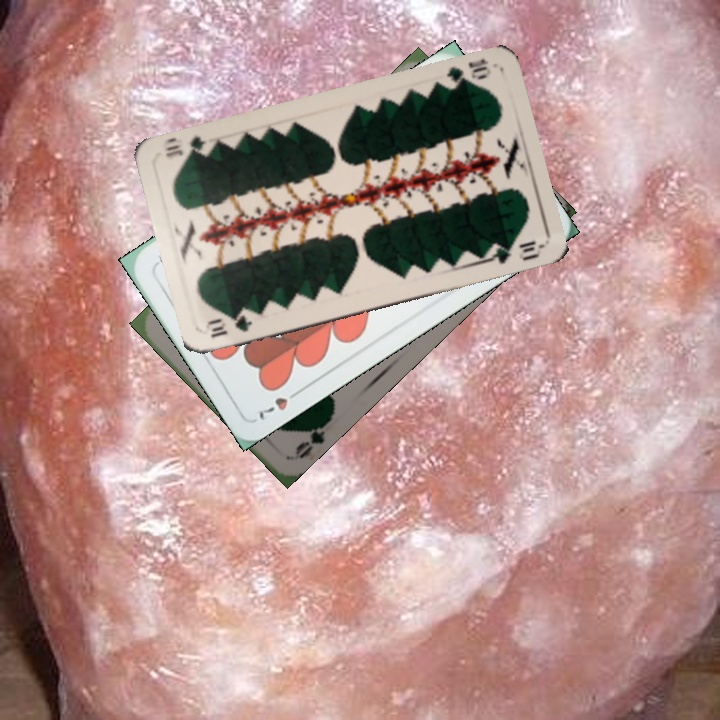G10: (438, 54, 494, 92), (204, 310, 255, 341)
GO: (290, 412, 335, 462)
H7: (254, 384, 305, 423)
